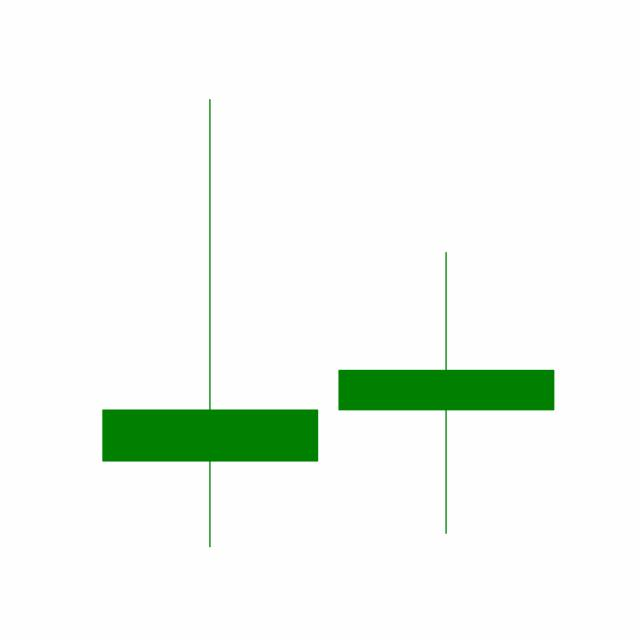Spinning Top: (327, 248, 565, 537)
